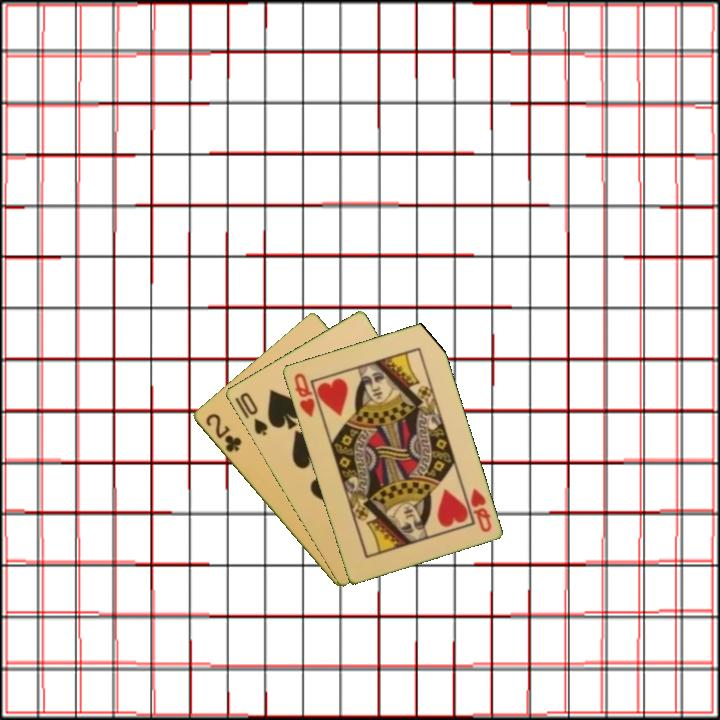10s: (231, 388, 270, 439)
2c: (202, 410, 244, 455)
Qh: (466, 485, 494, 535), (290, 369, 317, 420)
